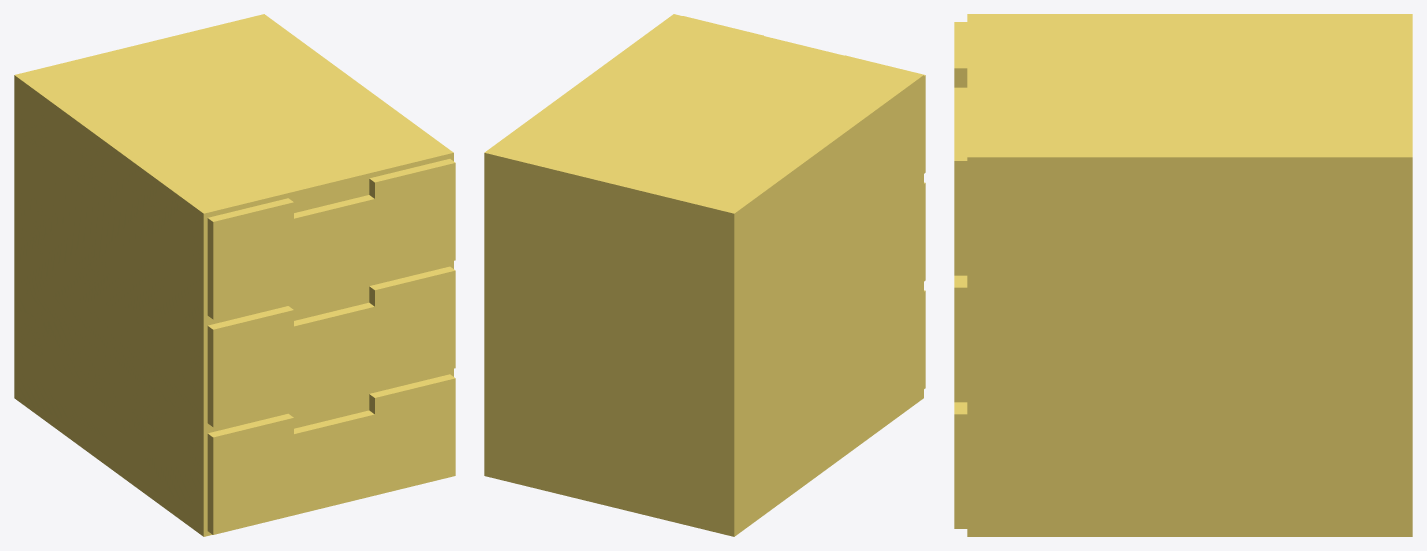
File: Cabinet_4.fbx
The picture shows the model from 3 angles, left to right: view 1: azimuth 30°, elevation 25°; view 2: azimuth 150°, elevation 25°; view 3: azimuth 270°, elevation 25°; orthographic projection. The views are drawn at different scales.
Parts seen in each view (by area): view 1: Cabinet_4; view 2: Cabinet_4; view 3: Cabinet_4.
Boxes of the visible parts, x1,y1,x2,y2 form: Cabinet_4: (14, 14, 455, 536); Cabinet_4: (484, 14, 925, 536); Cabinet_4: (954, 14, 1412, 536).
Size of the model in its own units: 51.56 by 69.69 by 63.7.
